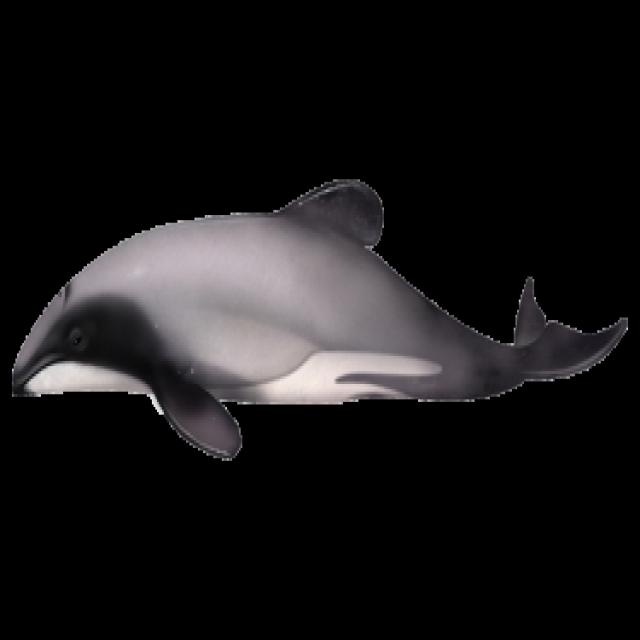penguin: (12, 179, 626, 458)
